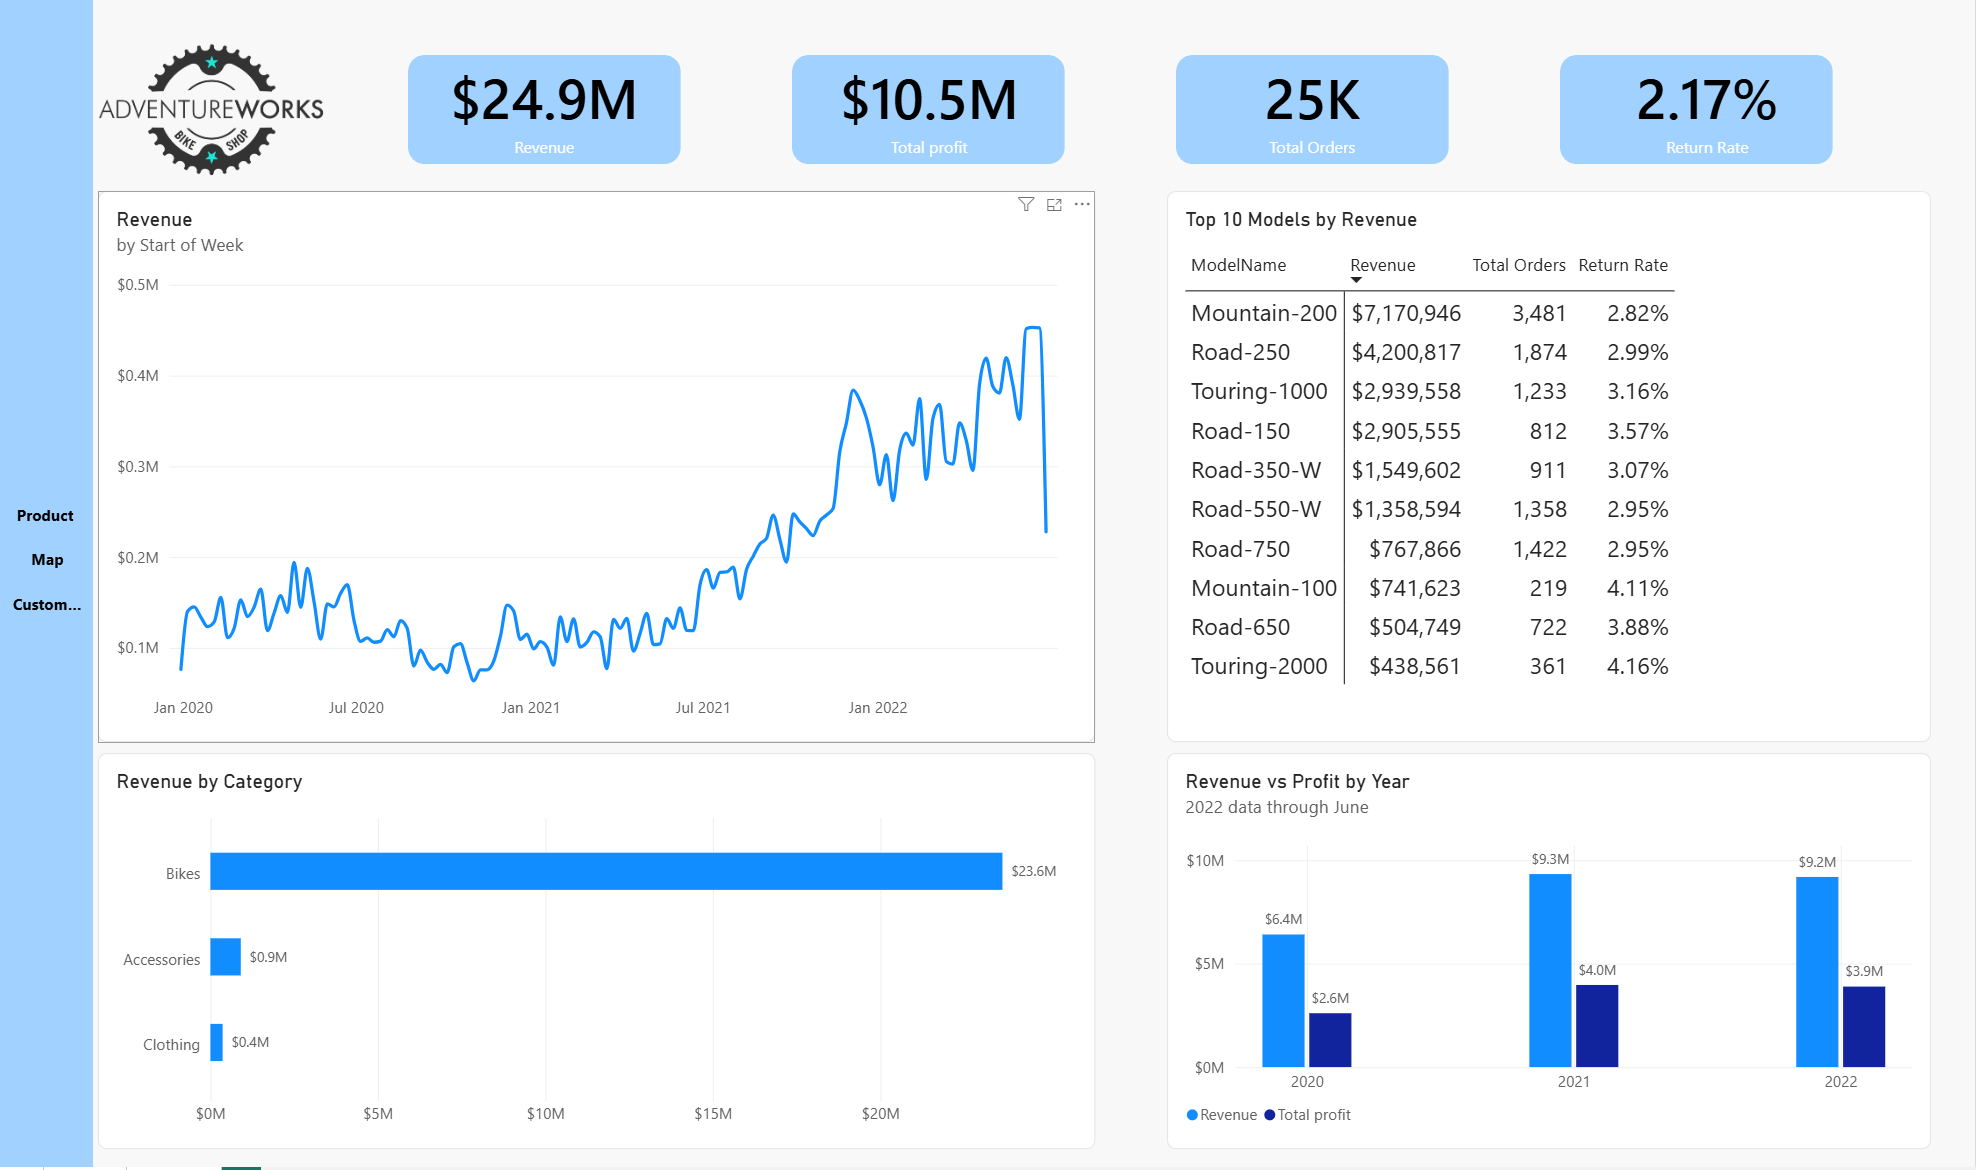

Layout of this report page (visuals, bound fields, positions):
{"tool":"powerbi","page":{"name":"Overview","canvas":[1812,1074],"ordinal":0},"visuals":[{"type":"shape","box":[0,0,88.4,1079.7],"z":0},{"type":"image","box":[56.5,42.4,280.4,126.1],"z":1000},{"type":"shape","box":[377.1,55.2,250,100],"z":2000},{"type":"shape","box":[728.8,55.2,250,100],"z":3000},{"type":"shape","box":[1080.6,55.2,250,100],"z":4000},{"type":"shape","box":[1432.3,55.2,250,100],"z":5000},{"type":"cardVisual","fields":{"Data":["Table.Revenue"]},"box":[377.1,55.2,250,100],"z":6000},{"type":"cardVisual","fields":{"Data":["Table.Total profit"]},"box":[729.2,55.2,250,100],"z":7000},{"type":"cardVisual","fields":{"Data":["Table.Total Orders"]},"box":[1080.2,55.2,250,100],"z":8000},{"type":"cardVisual","fields":{"Data":["Table.Return Rate"]},"box":[1442.7,55.2,250,100],"z":9000},{"type":"lineChart","fields":{"Category":["Calendar Lookup.Start of Week"],"Y":["Table.Revenue"]},"box":[92.5,179.8,913.8,505.2],"z":10000},{"type":"actionButton","box":[0,498,92.5,40.5],"z":11000},{"type":"actionButton","box":[0,458.5,88.4,39.5],"z":12000},{"type":"actionButton","box":[0,539.5,92.5,39.5],"z":13000},{"type":"pivotTable","title":"Top 10 Models by Revenue","fields":{"Rows":["Product Lookup.ModelName"],"Values":["Table.Revenue","Table.Total Orders","Table.Return Rate"]},"box":[1071.8,179.8,699.6,505.2],"z":14000},{"type":"clusteredBarChart","title":"Revenue by Category","fields":{"Category":["Product Categories Lookup.CategoryName"],"Y":["Table.Revenue"]},"box":[92.5,694.4,913.8,362.8],"z":15000},{"type":"clusteredColumnChart","title":"Revenue vs Profit by Year","fields":{"Category":["Calendar Lookup.Year"],"Y":["Table.Revenue","Table.Total profit"]},"box":[1071.8,694.4,699.6,362.8],"z":16000}]}

Visuals, with their boxes in screenshot pixels (x1, y1, x2, y2), scaled from the page's 1812x1074 canvas onto the 1976x1170 screenshot:
shape: (x1=0, y1=0, x2=96, y2=1169)
image: (x1=62, y1=46, x2=367, y2=184)
shape: (x1=411, y1=60, x2=684, y2=169)
shape: (x1=795, y1=60, x2=1067, y2=169)
shape: (x1=1178, y1=60, x2=1451, y2=169)
shape: (x1=1562, y1=60, x2=1835, y2=169)
cardVisual - Table.Revenue: (x1=411, y1=60, x2=684, y2=169)
cardVisual - Table.Total profit: (x1=795, y1=60, x2=1068, y2=169)
cardVisual - Table.Total Orders: (x1=1178, y1=60, x2=1451, y2=169)
cardVisual - Table.Return Rate: (x1=1573, y1=60, x2=1846, y2=169)
lineChart - Calendar Lookup.Start of Week x Table.Revenue: (x1=101, y1=196, x2=1097, y2=746)
actionButton: (x1=0, y1=543, x2=101, y2=587)
actionButton: (x1=0, y1=499, x2=96, y2=543)
actionButton: (x1=0, y1=588, x2=101, y2=631)
"Top 10 Models by Revenue" pivotTable: (x1=1169, y1=196, x2=1932, y2=746)
"Revenue by Category" clusteredBarChart: (x1=101, y1=756, x2=1097, y2=1152)
"Revenue vs Profit by Year" clusteredColumnChart: (x1=1169, y1=756, x2=1932, y2=1152)
